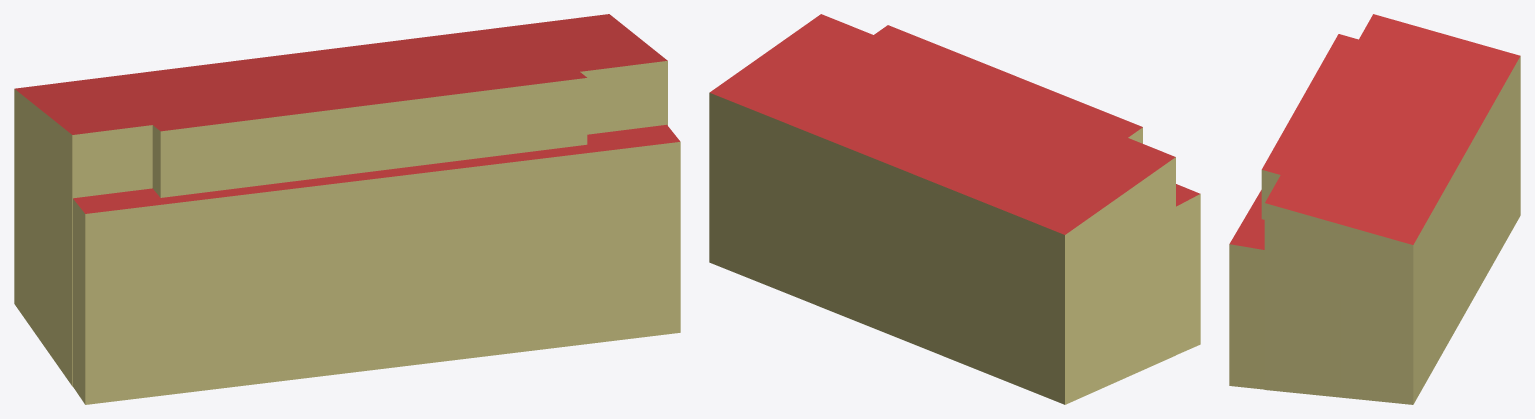
The picture shows the model from 3 angles, left to right: view 1: azimuth 30°, elevation 25°; view 2: azimuth 150°, elevation 25°; view 3: azimuth 270°, elevation 25°; orthographic projection. The views are drawn at different scales.
Size of the model in its own units: 31.39 by 18.61 by 13.42.
